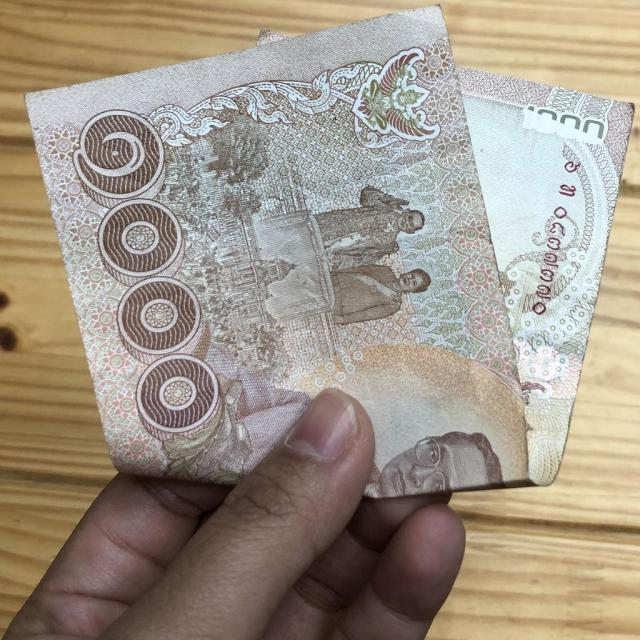THAI1000: (23, 6, 634, 505)
